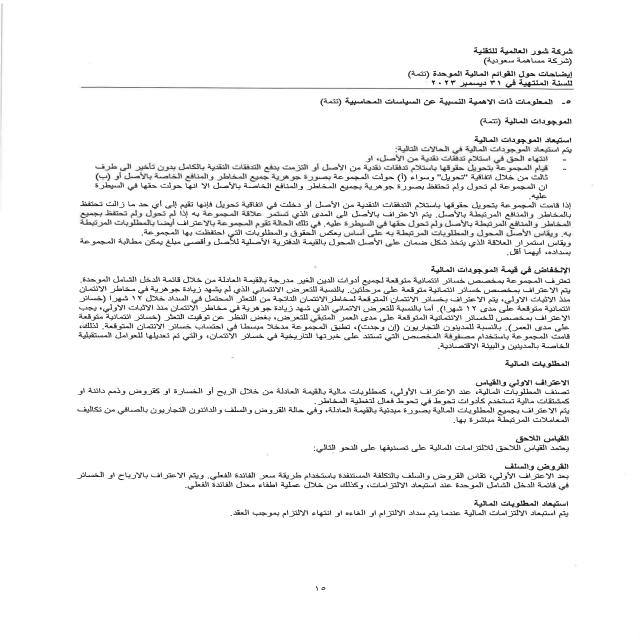notes: (401, 68, 577, 78)
text: (50, 94, 575, 530)
